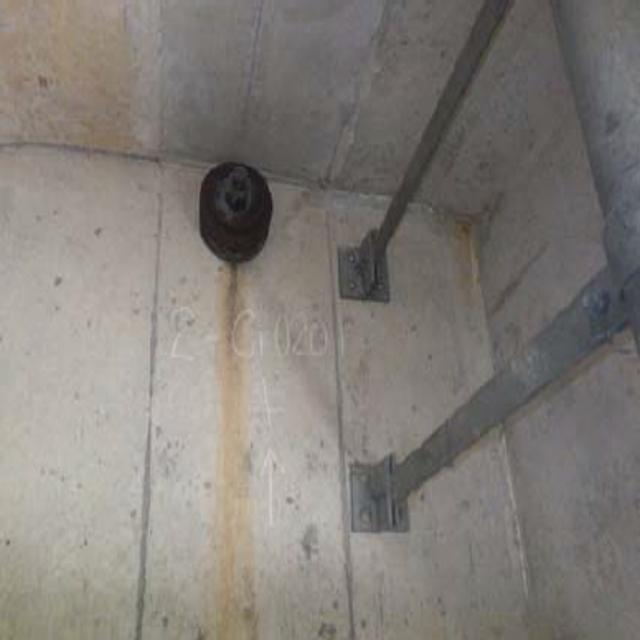corrosion: (188, 137, 288, 270)
leakage: (211, 295, 277, 640)
